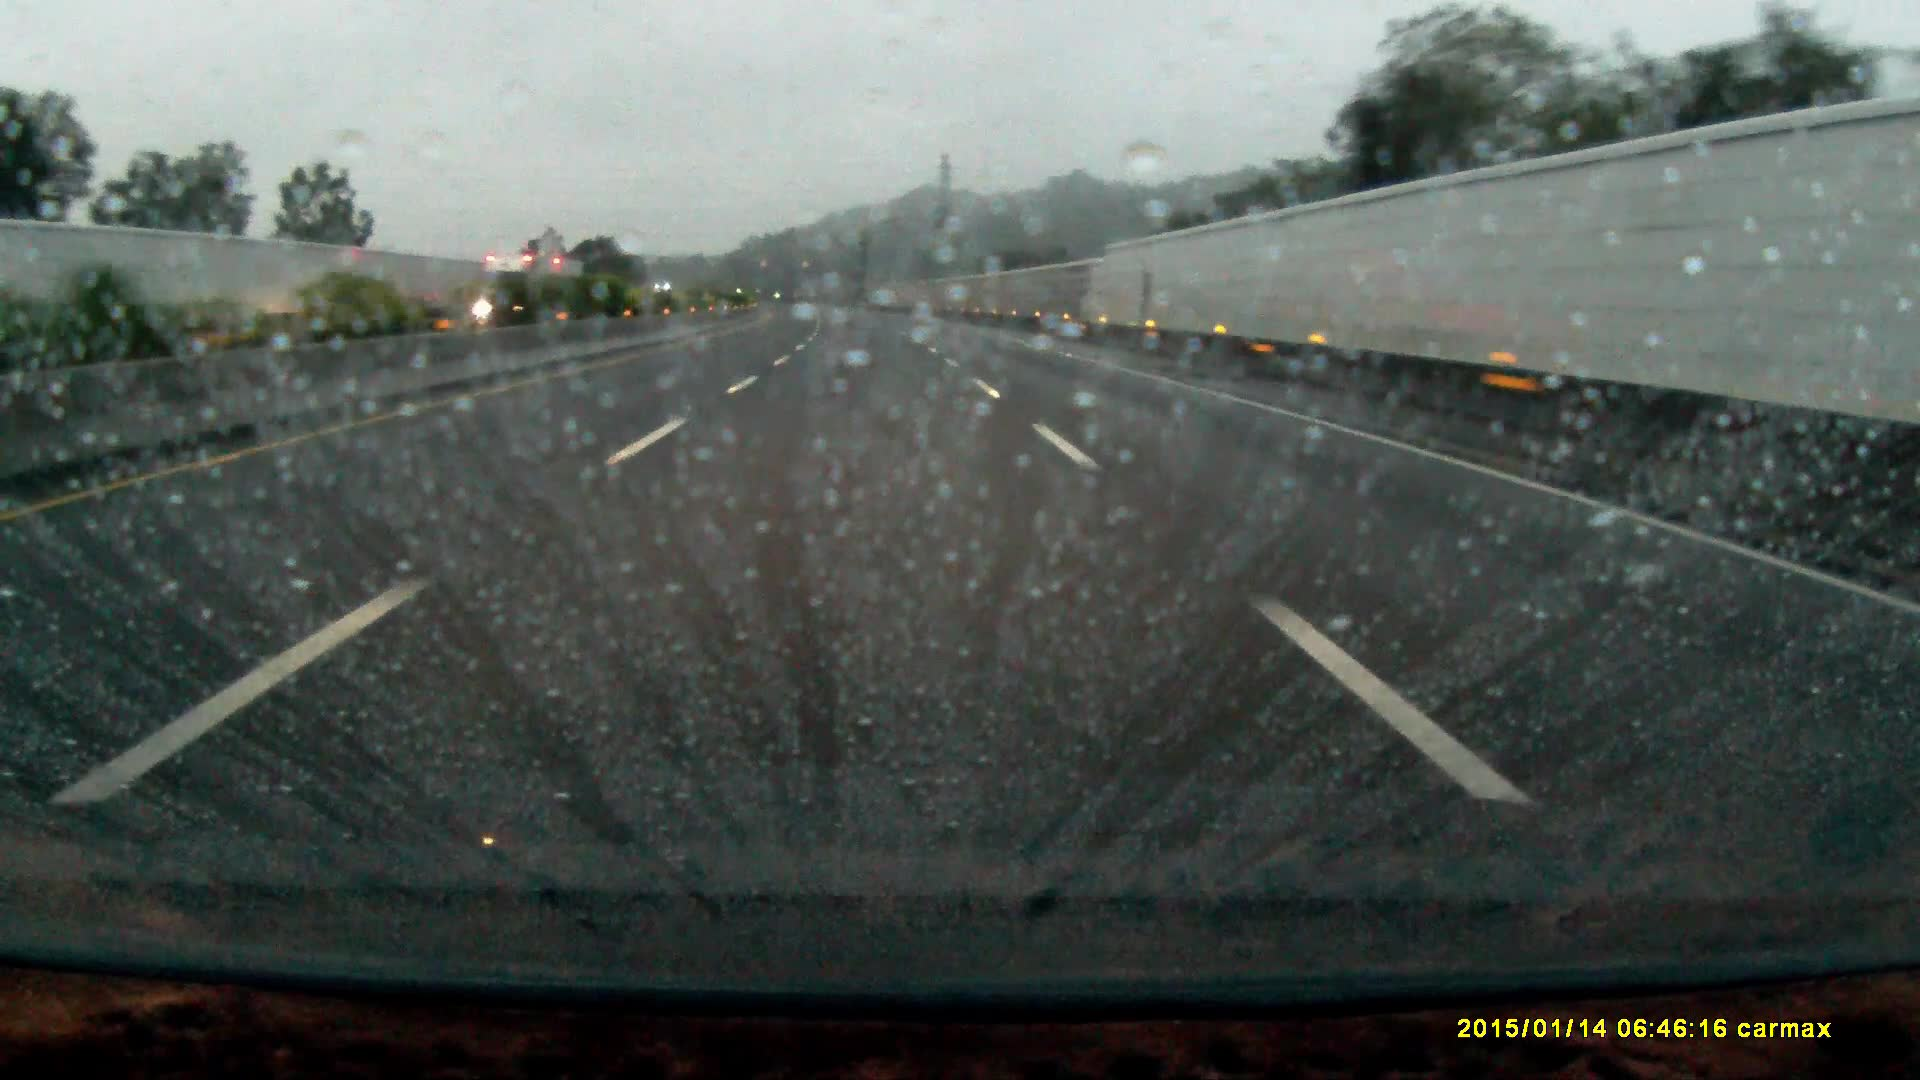vehicle: (475, 249, 582, 314)
